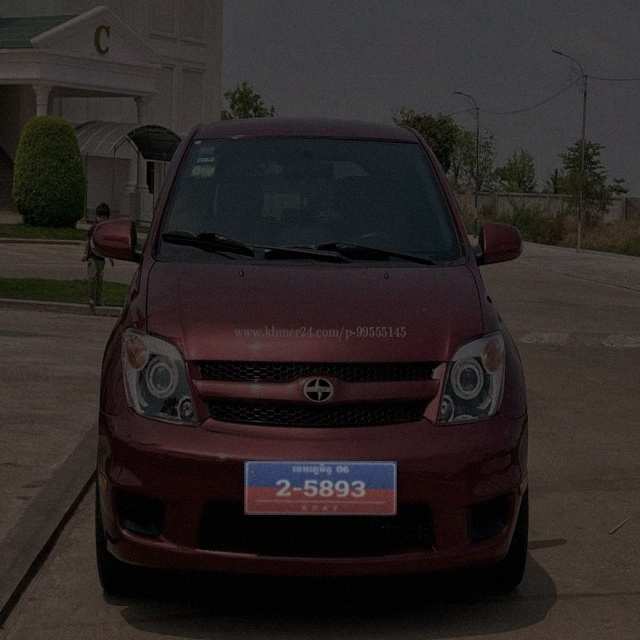Plate Number: (245, 462, 397, 515)
